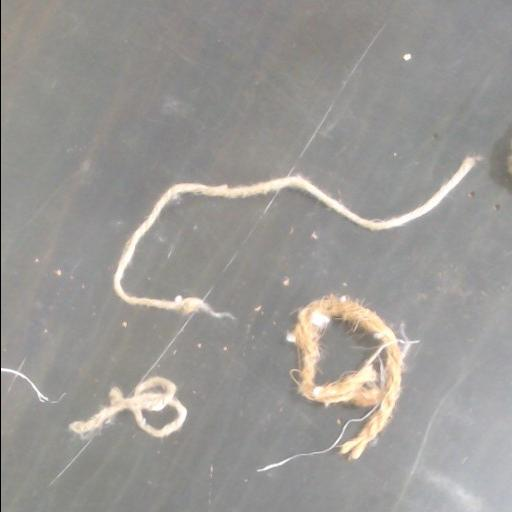conveyor belt: (1, 0, 512, 511)
jute: (113, 156, 479, 315), (259, 294, 417, 471), (72, 377, 185, 436)
